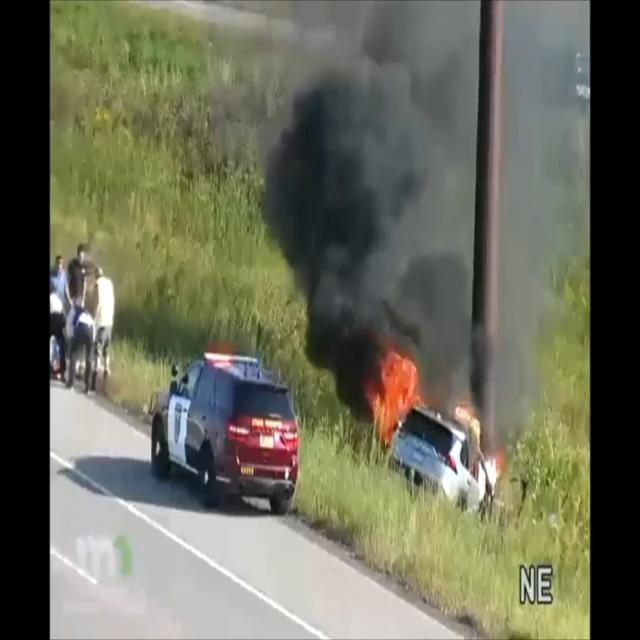fire: (360, 350, 426, 430), (482, 443, 514, 483)
